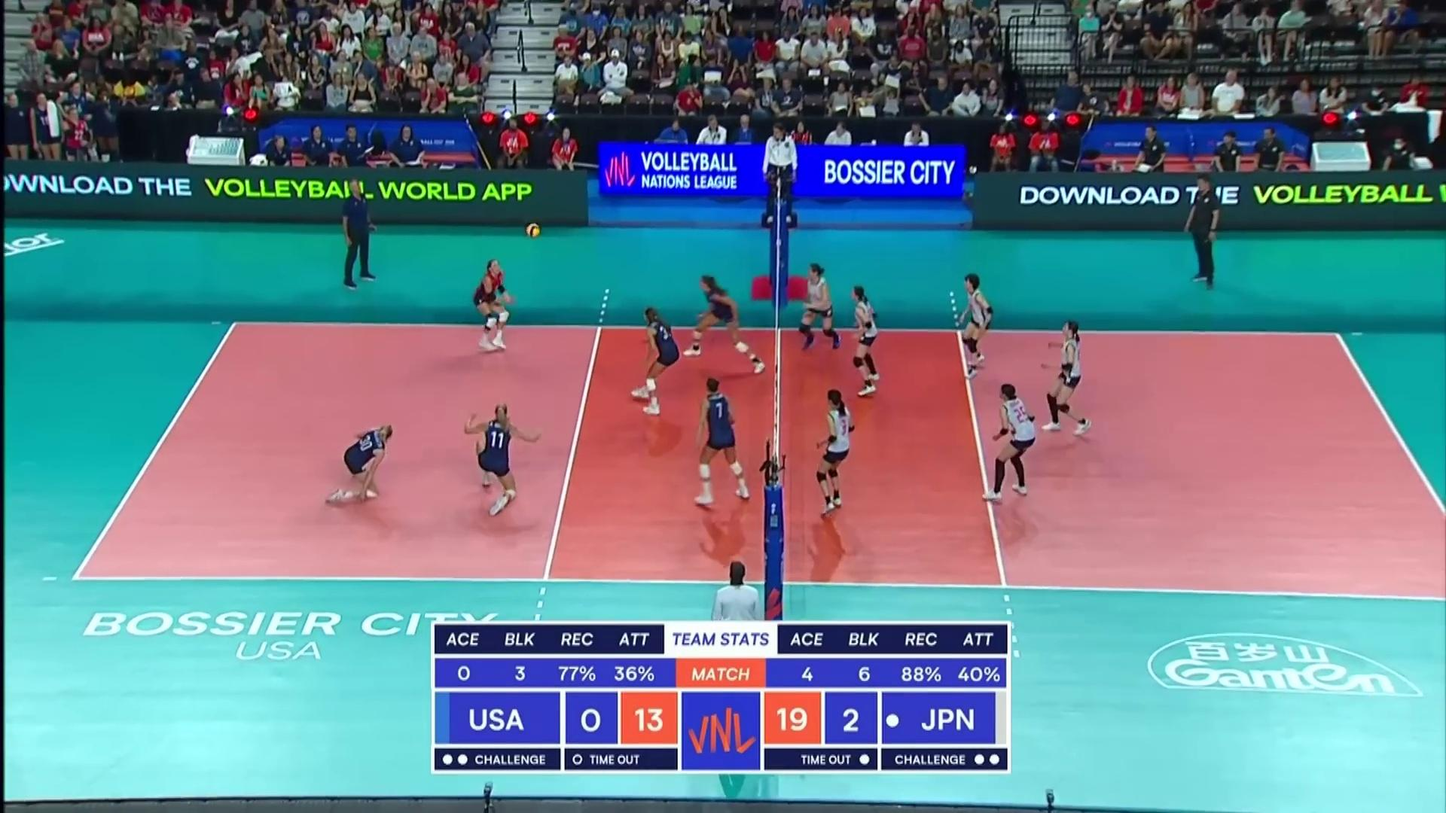player: (464, 406, 538, 518), (688, 278, 764, 372), (694, 382, 749, 510), (1036, 317, 1092, 439), (985, 385, 1037, 504), (630, 305, 682, 413), (815, 389, 857, 513), (842, 287, 888, 400), (329, 425, 393, 505), (793, 266, 837, 355), (955, 276, 995, 373), (473, 260, 514, 353)
refree: (711, 564, 763, 702), (761, 122, 799, 223)
